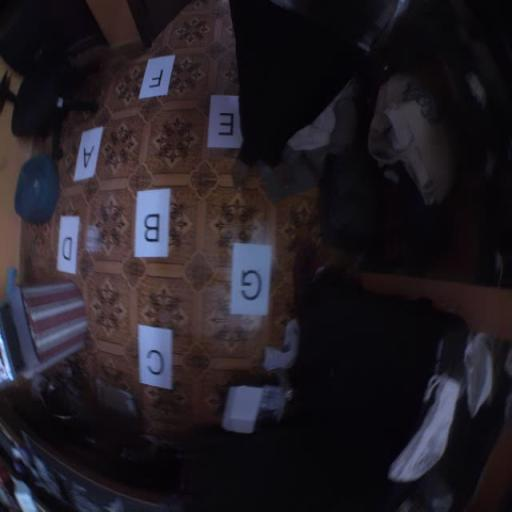A: (74, 127, 103, 181)
B: (134, 189, 172, 257)
C: (138, 324, 172, 390)
D: (56, 216, 79, 275)
E: (208, 95, 242, 148)
F: (138, 56, 176, 99)
G: (230, 243, 272, 316)
